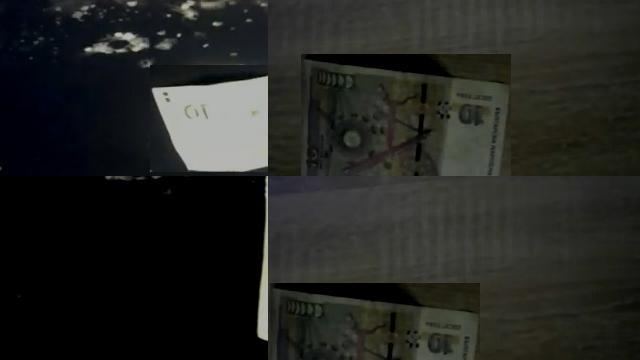10leva: (301, 54, 511, 176), (271, 283, 480, 360), (150, 74, 268, 172)
